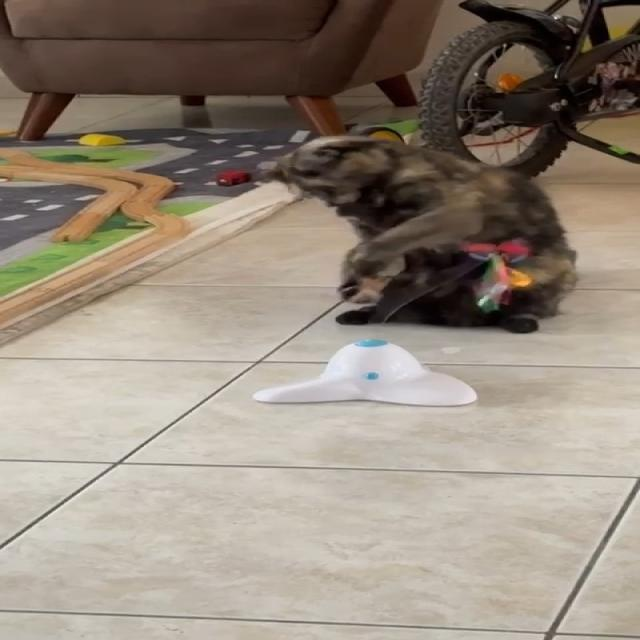authorized: (268, 134, 579, 334)
